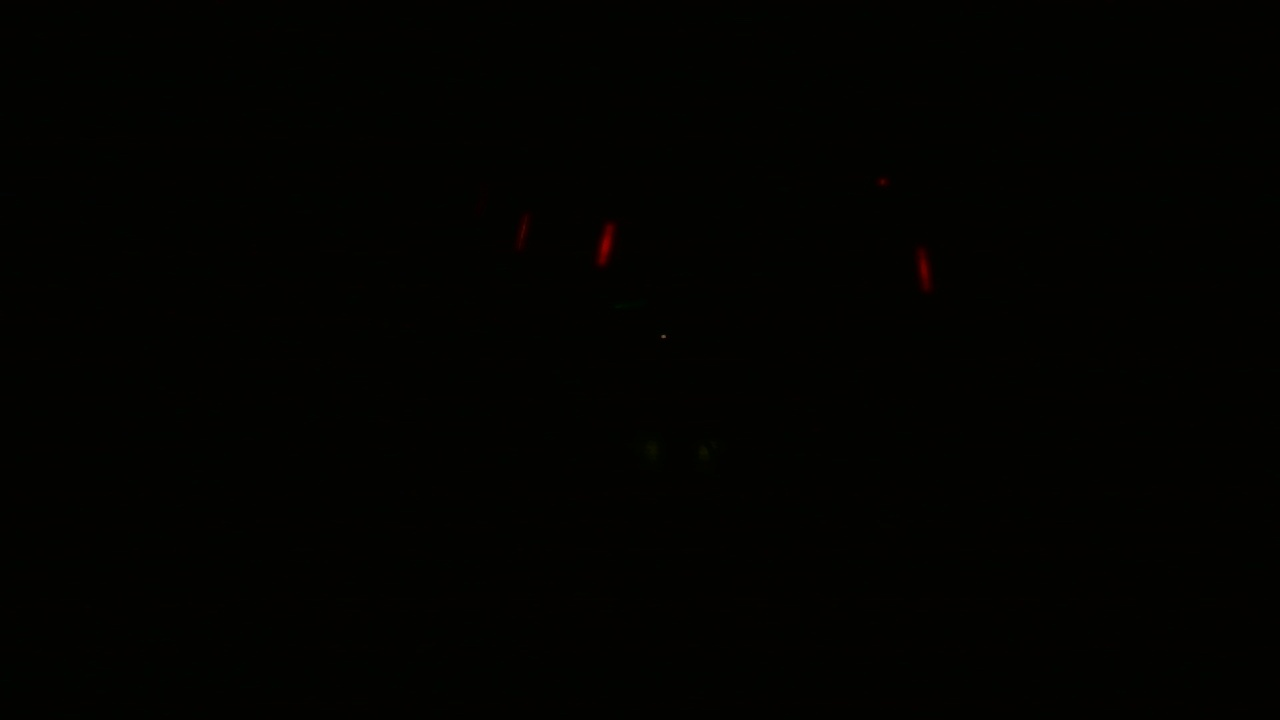pair1: (520, 210, 618, 268)
